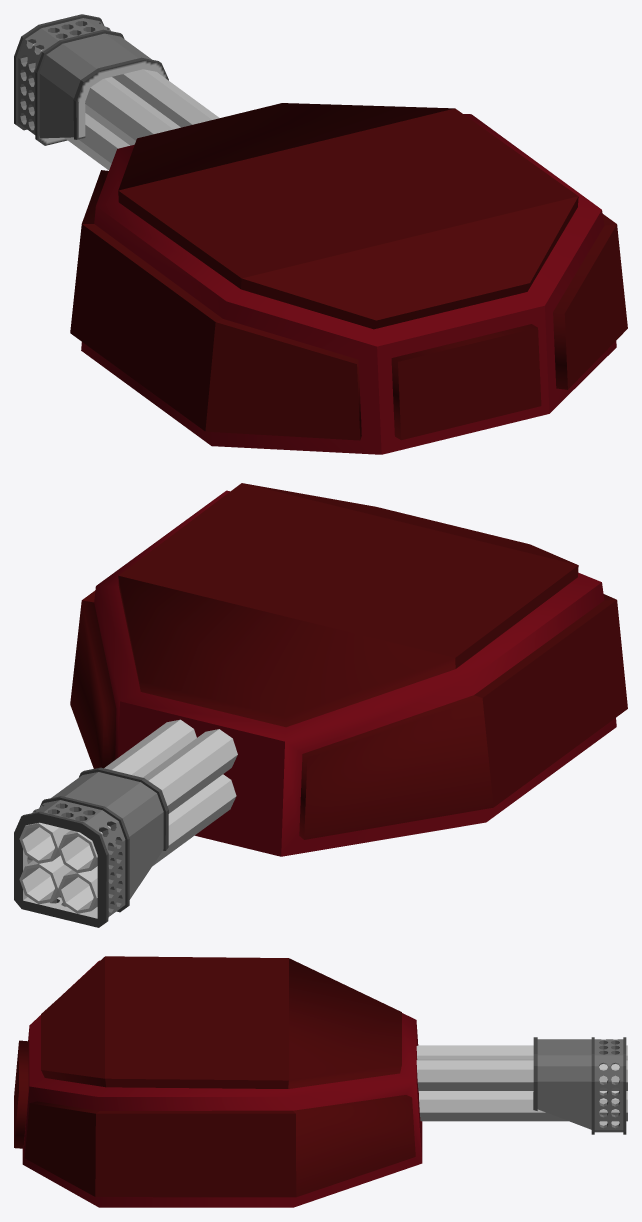
The model's file is Flame4.fbx.
The picture shows the model from 3 angles, top to bottom: view 1: azimuth 30°, elevation 25°; view 2: azimuth 150°, elevation 25°; view 3: azimuth 270°, elevation 25°; orthographic projection. The views are drawn at different scales.
Parts seen in each view (by area): view 1: Cube.003; view 2: Cube.003; view 3: Cube.003.
Boxes of the visible parts, x1,y1,x2,y2 form: Cube.003: (14, 14, 627, 454); Cube.003: (14, 483, 627, 927); Cube.003: (14, 956, 627, 1207).
Size of the model in its own units: 153 by 54.03 by 258.
1 material, 1 textured.
